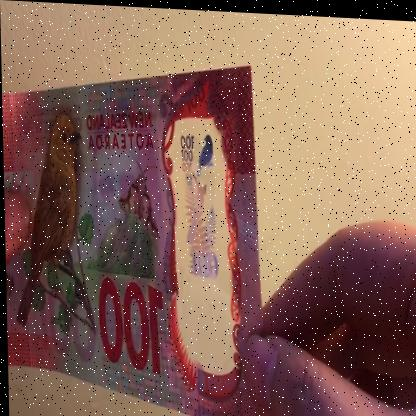100B: (176, 121, 220, 327)
